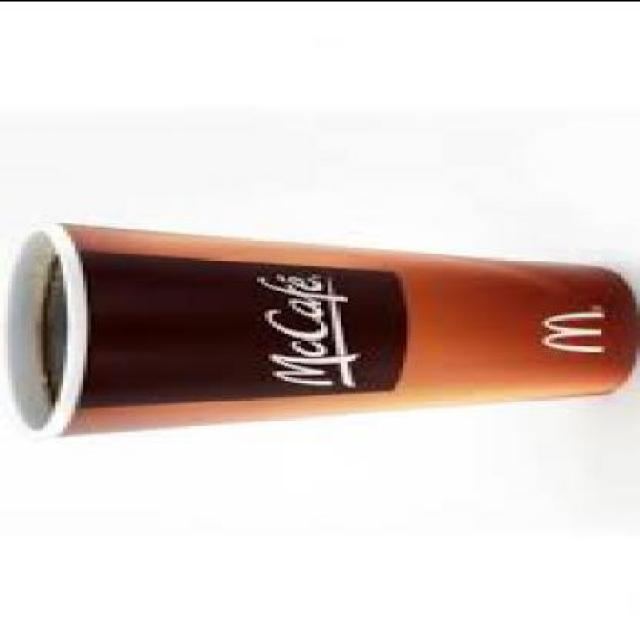PAPER: (4, 224, 636, 436)
